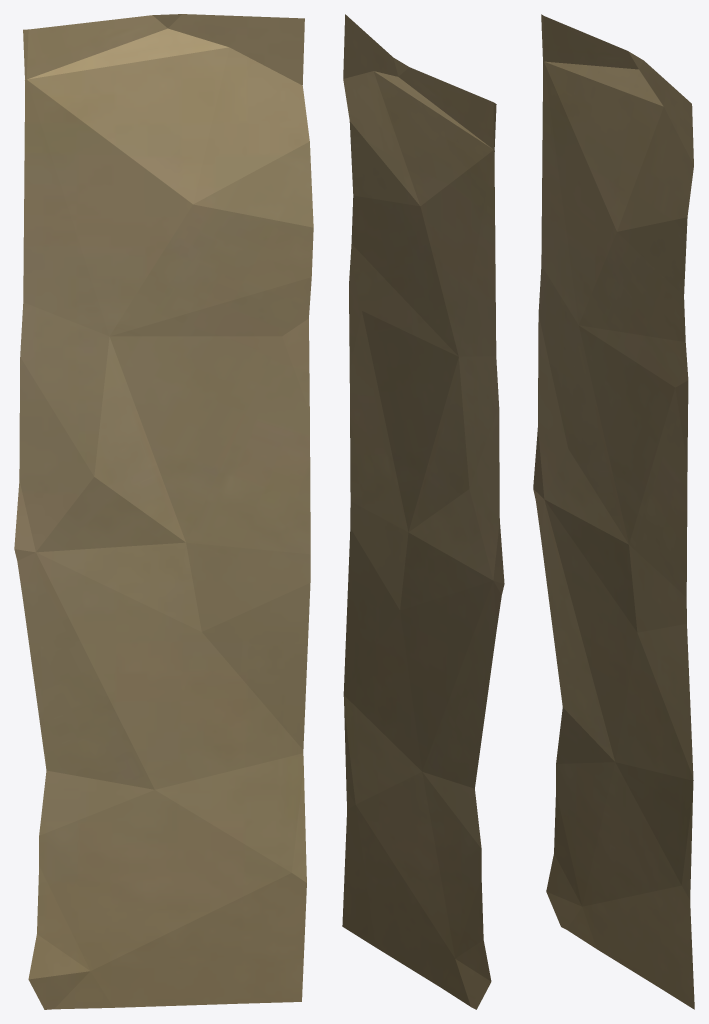
3 renders of one model, left to right at view 1: azimuth 30°, elevation 25°; view 2: azimuth 150°, elevation 25°; view 3: azimuth 330°, elevation 25°, orthographic. The views are drawn at different scales.
Size of the model in its own units: 0.2059 by 0.8374 by 0.1044.
1 material, 1 textured.
